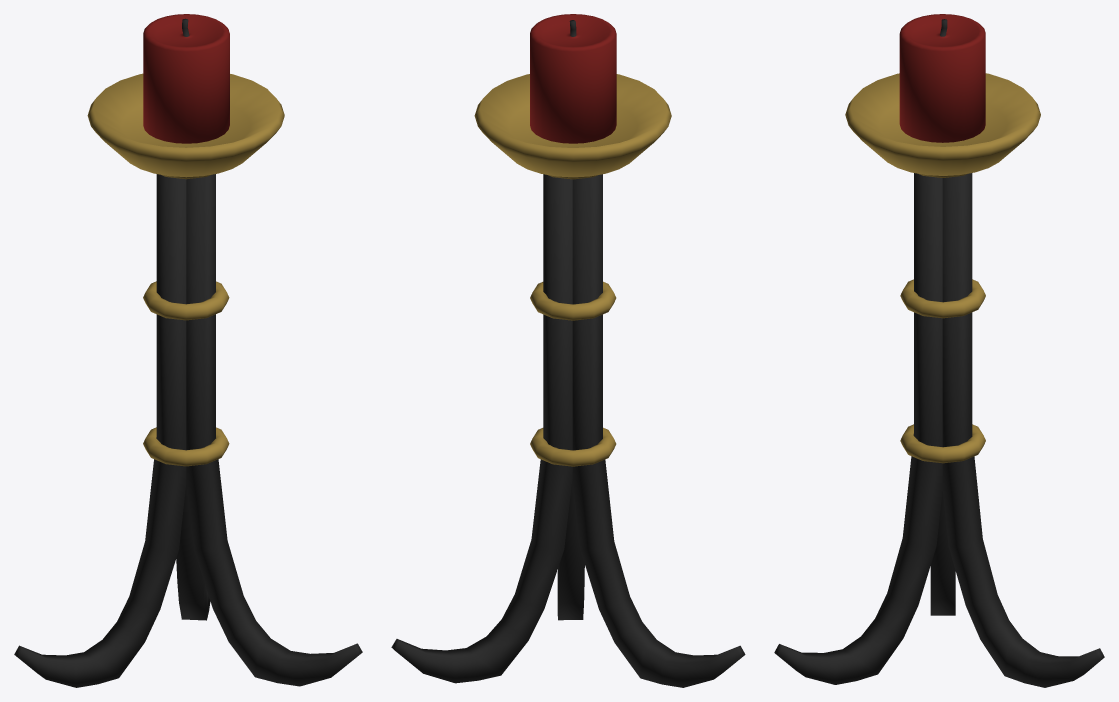
Rendered from standingCandle.fbx.
3 views of the same model, side by side, from view 1: azimuth 30°, elevation 25°; view 2: azimuth 150°, elevation 25°; view 3: azimuth 270°, elevation 25° (orthographic).
Parts seen in each view (by area): view 1: Standing Candle; view 2: Standing Candle; view 3: Standing Candle.
Boxes of the visible parts, <box> form: Standing Candle: <box>14,14,362,687</box>; Standing Candle: <box>391,14,745,687</box>; Standing Candle: <box>774,14,1104,687</box>.
Bounding box in the file's own units: 59 × 62.33 × 131.
